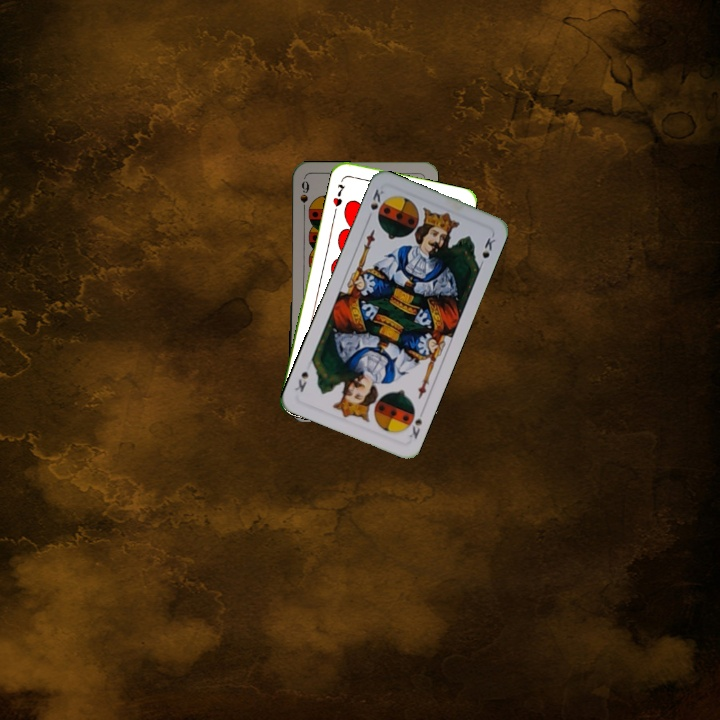H7: (329, 180, 348, 209)
S9: (296, 177, 311, 217)
SK: (363, 185, 386, 223), (405, 414, 425, 442)
